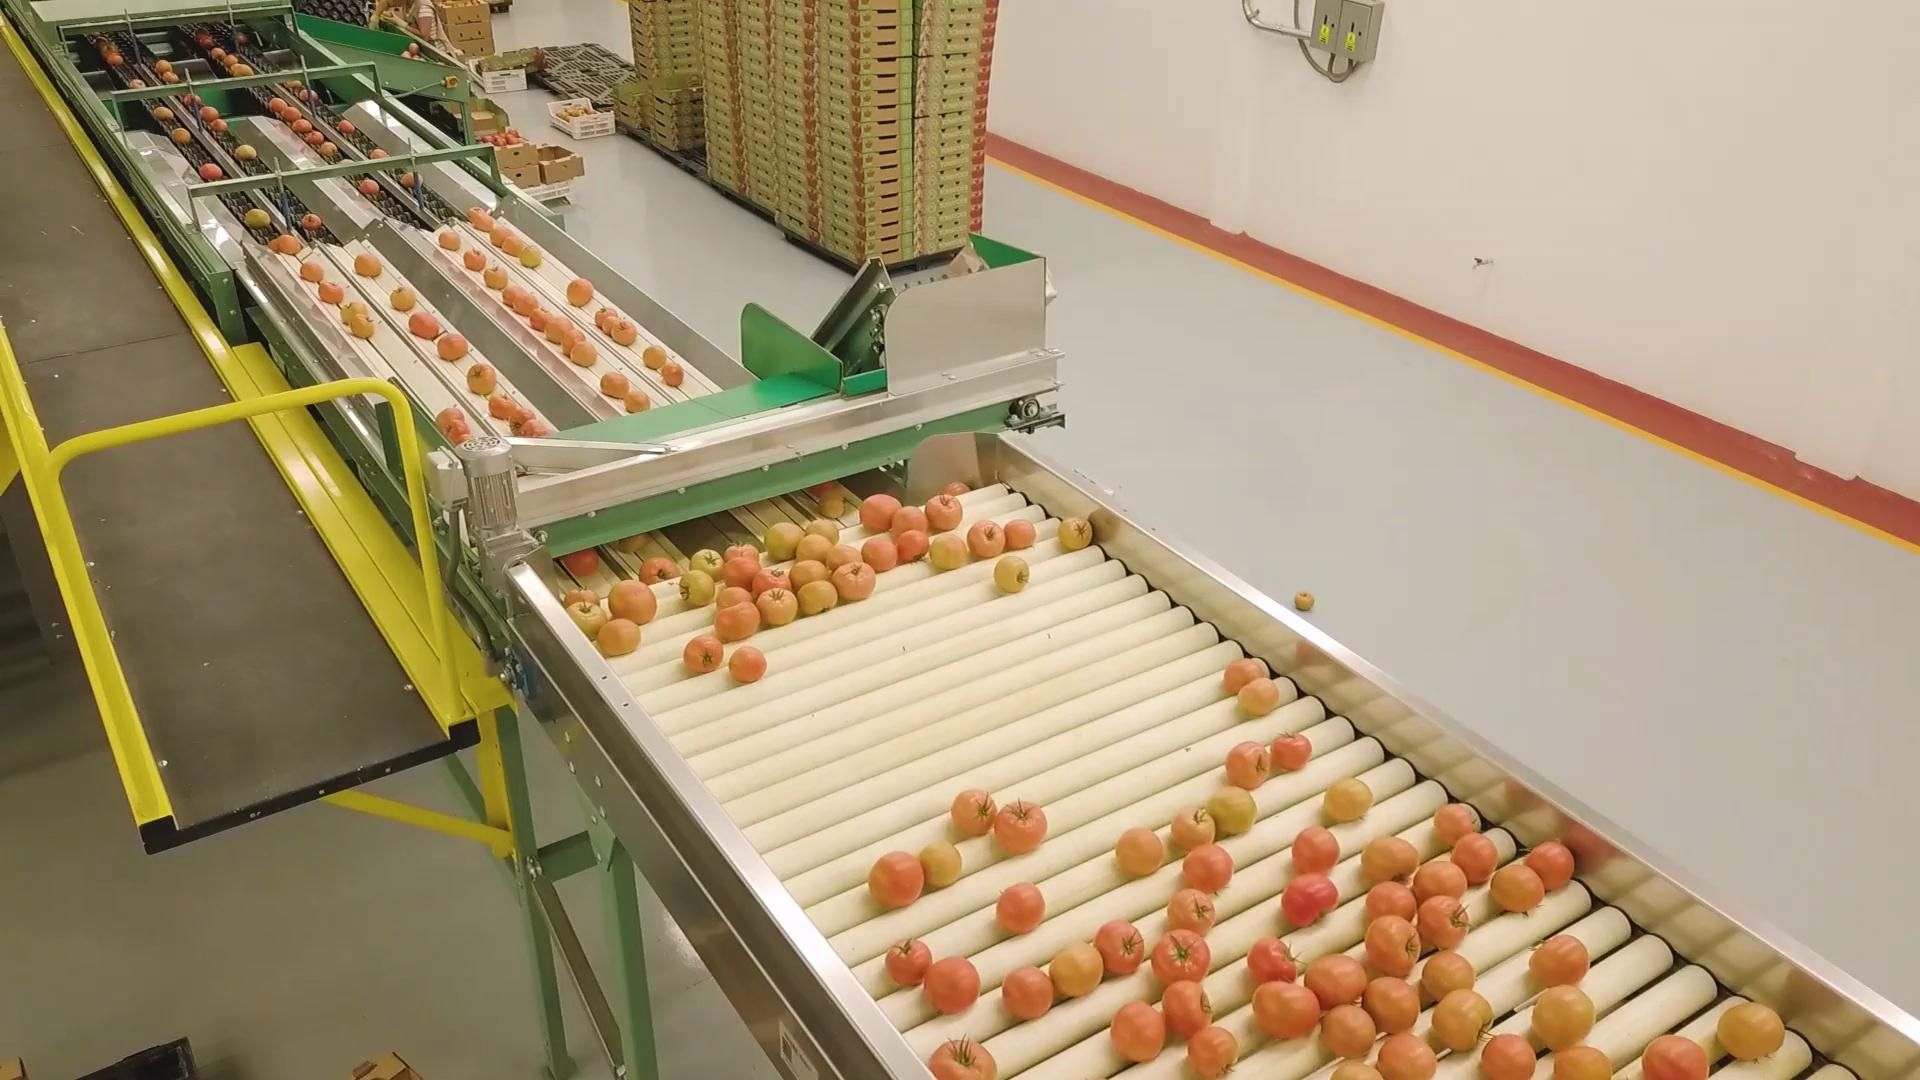Fruit: (1240, 981, 1321, 1044), (1280, 870, 1342, 935), (1112, 998, 1170, 1065), (1046, 938, 1108, 1000), (1108, 815, 1167, 878), (1718, 1007, 1791, 1059), (1323, 1000, 1382, 1062), (1367, 911, 1424, 975), (865, 847, 922, 907), (1530, 936, 1597, 985), (923, 1036, 998, 1080), (994, 882, 1054, 936), (1180, 844, 1246, 891), (1642, 1034, 1709, 1080), (1187, 1026, 1246, 1077), (1001, 968, 1056, 1022), (1159, 981, 1218, 1031), (1096, 920, 1151, 973), (1369, 978, 1424, 1031), (1379, 1029, 1436, 1080), (1212, 790, 1271, 837), (1305, 957, 1371, 1000), (1422, 897, 1476, 948), (1433, 997, 1495, 1042), (1493, 860, 1543, 915), (1246, 932, 1300, 982), (1150, 939, 1224, 975), (732, 645, 789, 691), (1166, 886, 1225, 930), (1000, 799, 1050, 851), (1424, 949, 1482, 993), (1481, 1036, 1538, 1080), (1534, 997, 1589, 1040), (1291, 824, 1340, 873), (926, 965, 984, 1006), (1369, 833, 1418, 880), (1551, 1047, 1618, 1080), (1226, 740, 1273, 786), (952, 786, 996, 835), (597, 618, 653, 657), (608, 579, 659, 620), (1167, 798, 1213, 843), (1364, 878, 1415, 918), (923, 843, 968, 886), (1267, 740, 1328, 771), (682, 633, 724, 678), (1453, 836, 1499, 877), (758, 585, 800, 628), (1528, 845, 1580, 880), (1419, 857, 1464, 894), (1435, 802, 1476, 841), (765, 516, 804, 556), (858, 489, 901, 527), (886, 938, 931, 973), (1331, 779, 1375, 815), (568, 599, 609, 637), (1233, 686, 1284, 715), (926, 495, 971, 527), (931, 534, 969, 571), (1224, 650, 1262, 686), (835, 560, 876, 593), (972, 517, 1007, 554), (682, 568, 716, 607), (716, 608, 762, 636), (862, 535, 899, 570), (802, 584, 845, 611), (998, 558, 1036, 587), (724, 551, 760, 582), (1007, 518, 1042, 549), (464, 363, 498, 393), (895, 529, 928, 559), (1063, 516, 1092, 550), (638, 558, 678, 582), (595, 371, 632, 396), (694, 547, 725, 576), (409, 314, 444, 339), (891, 510, 934, 531), (793, 559, 827, 584), (500, 235, 531, 261), (438, 335, 469, 361), (1333, 1063, 1381, 1080), (567, 551, 601, 575), (566, 278, 596, 305), (315, 278, 345, 305), (488, 394, 521, 417), (353, 252, 382, 277), (807, 516, 840, 537), (761, 563, 790, 587), (719, 584, 753, 604), (642, 343, 667, 369), (464, 248, 489, 274), (351, 313, 375, 340), (443, 425, 476, 444), (276, 235, 305, 257), (831, 542, 862, 562), (505, 410, 537, 430), (804, 534, 835, 554), (243, 208, 273, 228), (436, 405, 463, 427), (595, 302, 626, 320), (571, 347, 597, 368), (724, 542, 762, 556), (530, 306, 558, 326), (502, 282, 530, 302), (389, 289, 413, 311), (339, 302, 365, 322), (518, 422, 549, 439), (481, 268, 509, 286), (512, 295, 538, 314), (198, 162, 224, 181), (522, 245, 545, 266), (613, 323, 637, 343), (628, 390, 649, 411), (547, 319, 570, 339), (359, 177, 381, 196), (556, 334, 587, 348), (301, 261, 324, 280), (440, 231, 462, 251), (232, 63, 256, 80), (489, 228, 514, 244), (476, 214, 497, 232), (154, 103, 174, 121), (339, 117, 359, 136), (266, 95, 289, 111), (170, 125, 190, 142), (303, 214, 323, 229), (235, 148, 258, 161), (306, 131, 327, 145), (208, 120, 231, 133), (468, 204, 487, 220), (667, 365, 682, 385), (154, 59, 174, 74), (199, 107, 223, 119), (284, 108, 305, 121), (319, 142, 340, 156), (369, 148, 389, 161), (295, 119, 314, 132), (107, 54, 125, 66), (236, 30, 249, 46), (199, 33, 215, 45), (129, 78, 146, 88), (164, 74, 182, 83), (212, 47, 225, 59), (224, 53, 236, 65), (287, 79, 302, 87)
